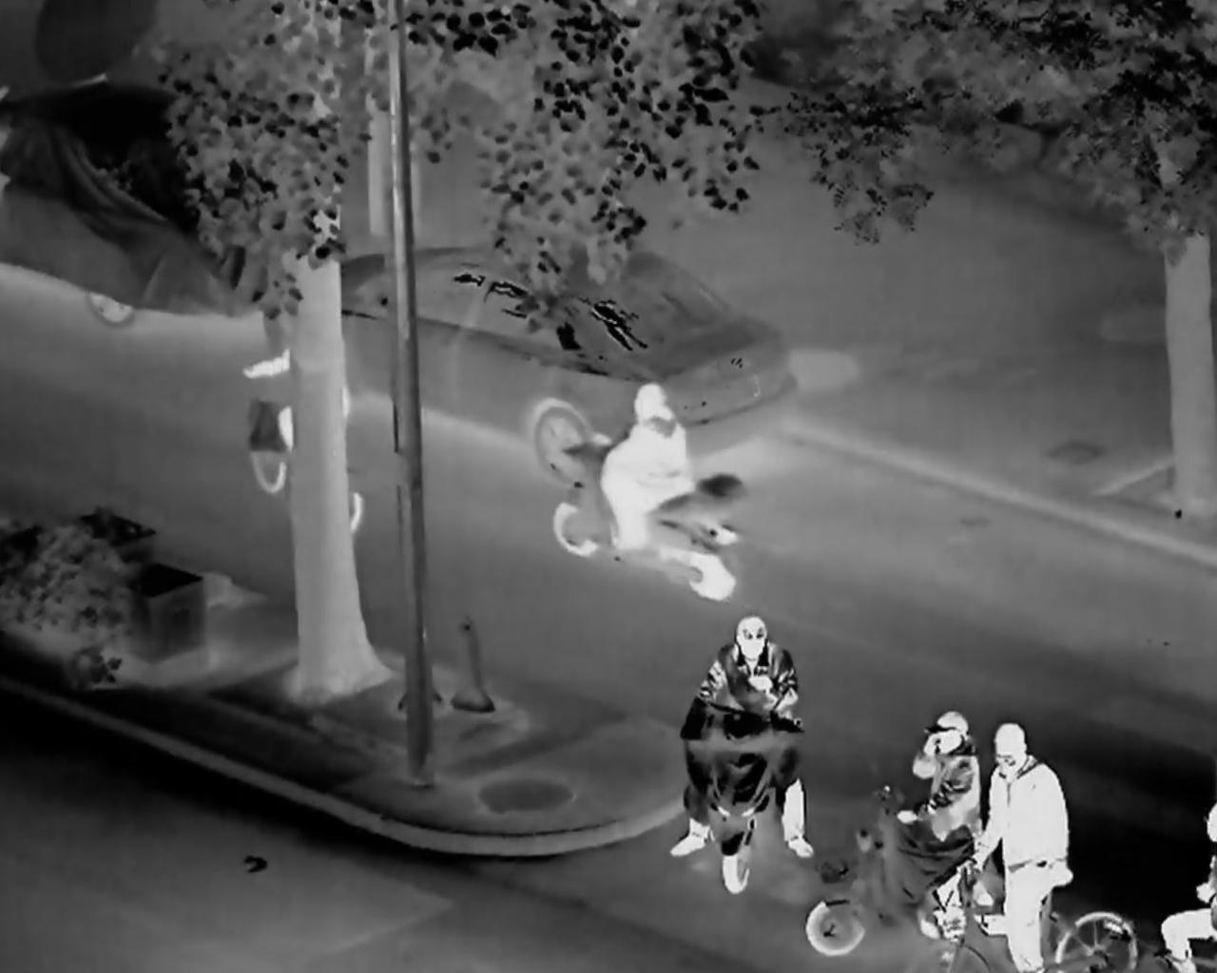person: (674, 601, 832, 880), (226, 297, 409, 523), (955, 725, 1099, 973), (576, 363, 694, 588), (896, 709, 996, 917), (1160, 797, 1217, 973)
